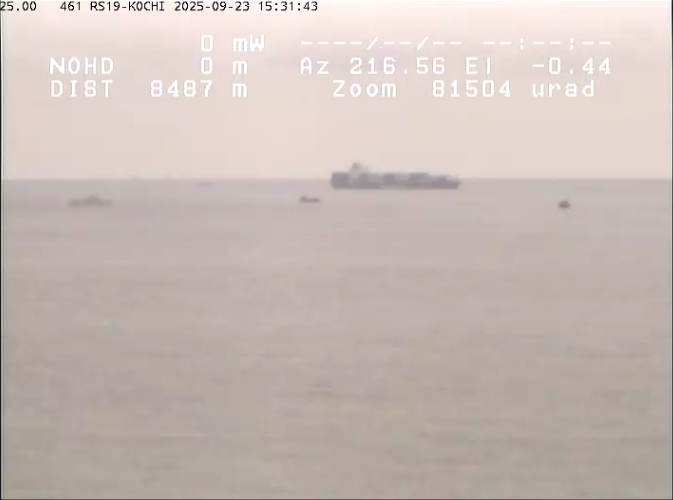CARGO_SHIPS: (327, 161, 470, 197)
FISHING_BOAT: (295, 191, 333, 206)
